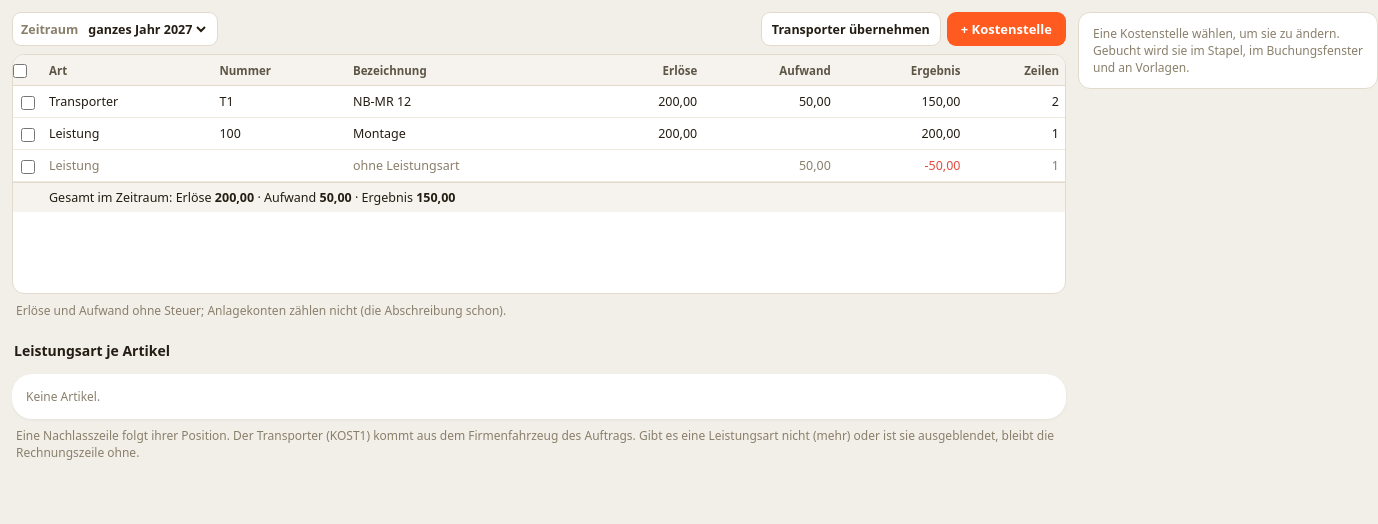
Test case: Kostenstellen-Seite › Erlöse, Aufwand, Ergebnis; ohne Leistungsart; ändern; Transporter übernehmen
Check: the text "ohne Leistungsart" is shown, box [353,157,459,174]
Check: the text "Gesamt im Zeitraum" reads "Gesamt im Zeitraum: Erlöse 200,00 · Aufwand 50,00 · Ergebnis 150,00", box [43,182,1065,212]
Click the row "Transporter T1 NB-MR 12 200,00 50,00 150,00 2": (539, 102) [13,86,1065,118]
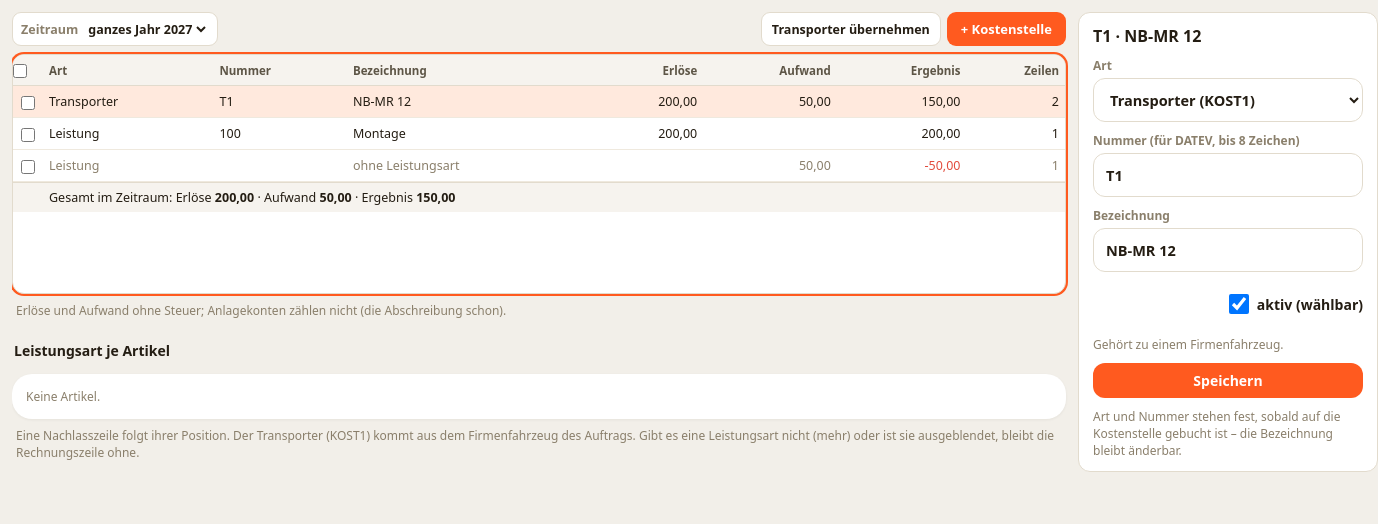
Replace the text in the field labelled "Bezeichnung" with "Sprinter": (1228, 250) [1093,228,1363,272]
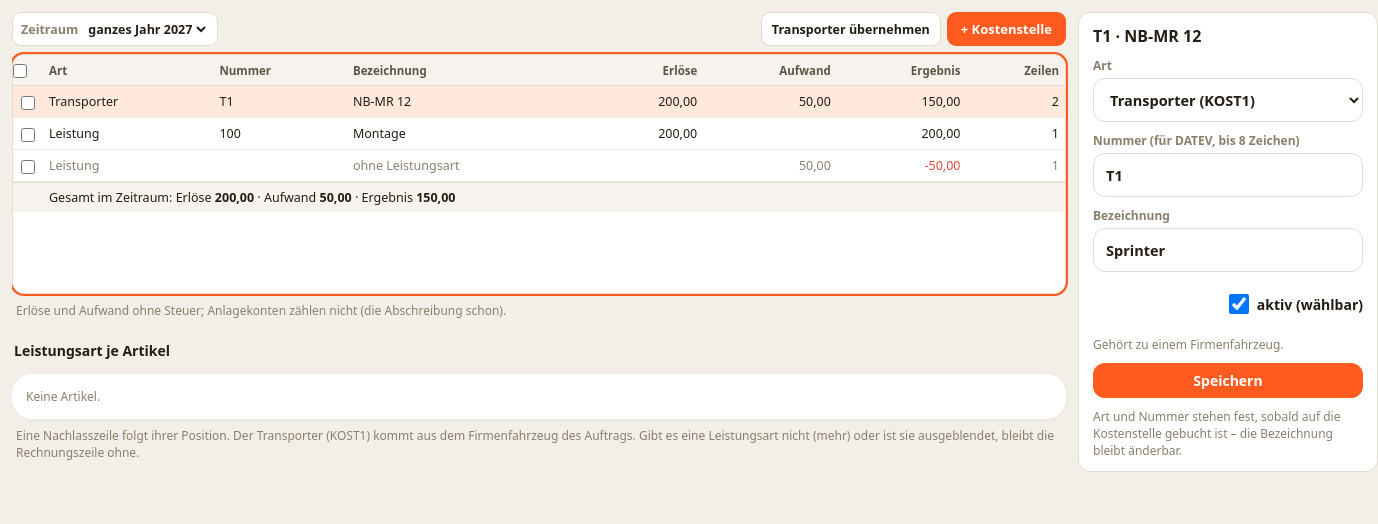
Click the button "Speichern": (1228, 380) [1093,363,1363,398]
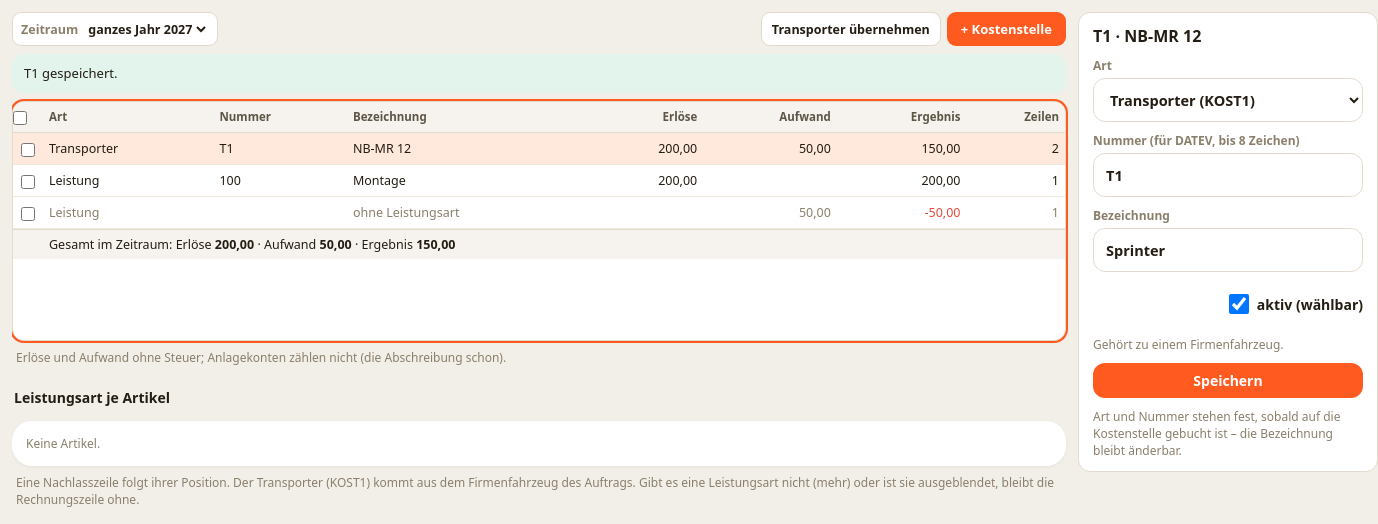
Click the button "Transporter übernehmen": (851, 29) [761,12,941,46]
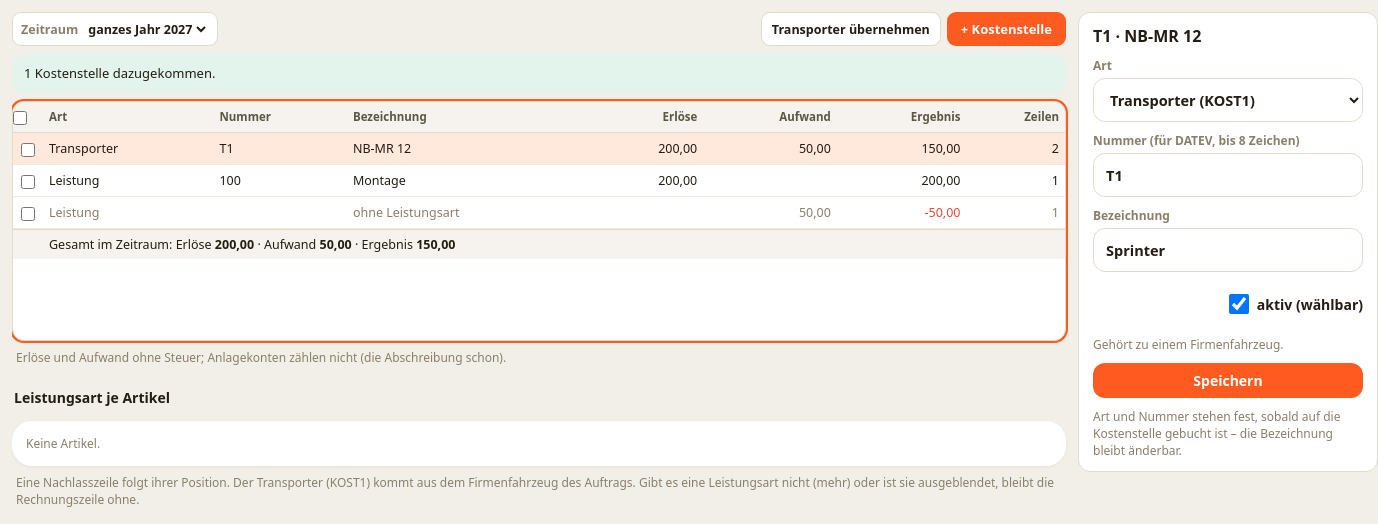
Check: the text "1 Kostenstelle dazugekommen." is shown, box [12,54,1066,93]
